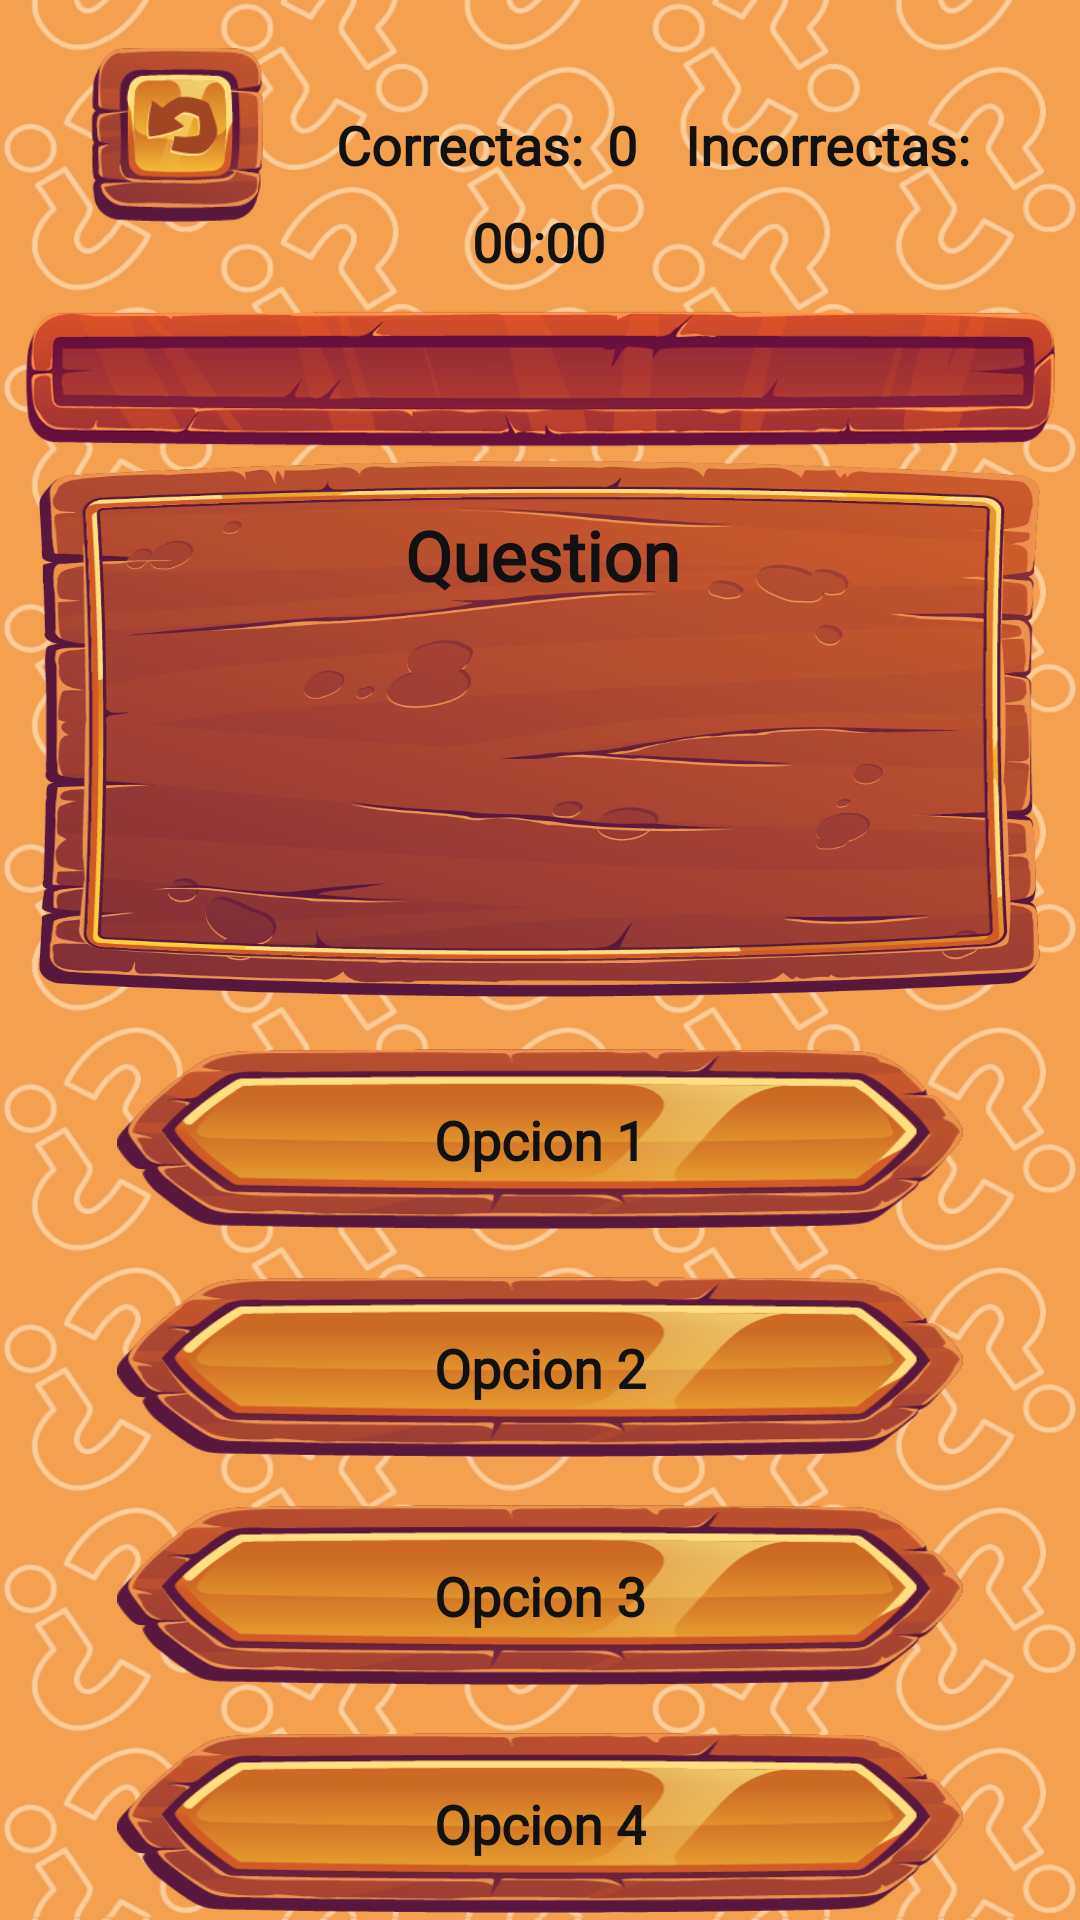

Icons on this 1080 x 1920 Android screen, each with its box as box(x1, y1, x2, y2):
regreso: box(90, 48, 264, 222)
